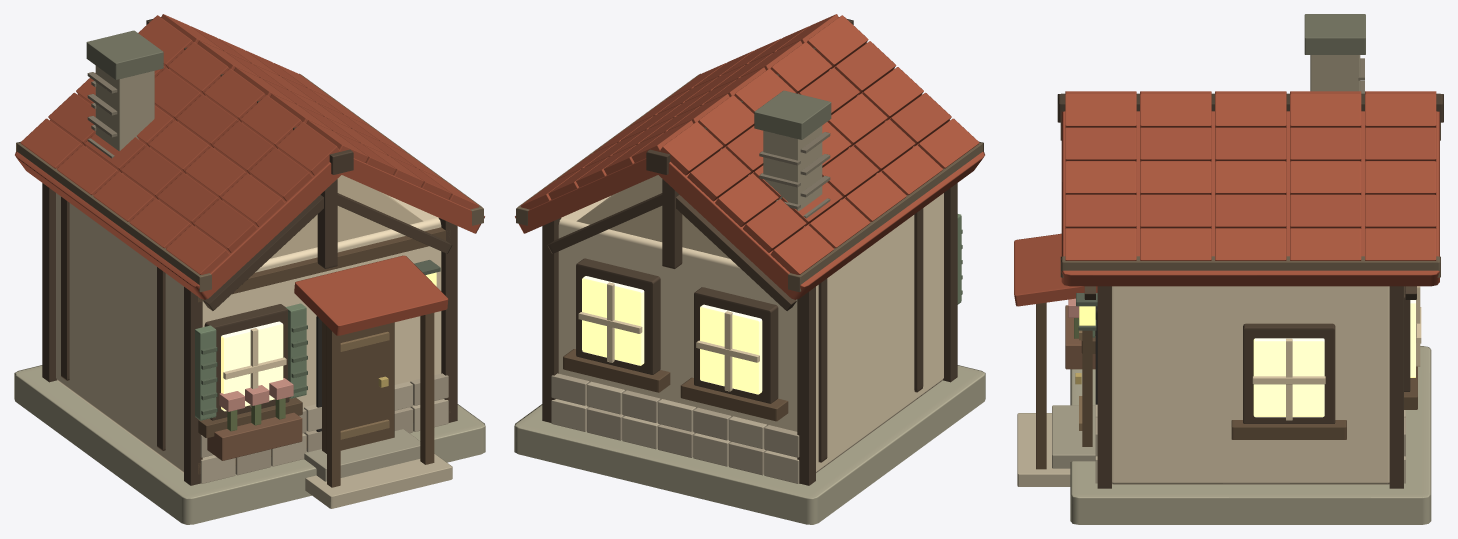
File: house-0.glb
3 views of the same model, side by side, from view 1: azimuth 30°, elevation 25°; view 2: azimuth 150°, elevation 25°; view 3: azimuth 270°, elevation 25° (orthographic). The views are drawn at different scales.
Parts seen in each view (by area): view 1: house-0-0, door-hinge; view 2: house-0-0; view 3: house-0-0, door-hinge.
Part boxes in pixels (x1=…): house-0-0: x1=14, y1=14, x2=485, y2=524; door-hinge: x1=322, y1=321, x2=394, y2=453; house-0-0: x1=514, y1=14, x2=985, y2=524; house-0-0: x1=1014, y1=14, x2=1443, y2=524; door-hinge: x1=1075, y1=306, x2=1092, y2=446.
Bounding box in the file's own units: 1.88 × 2.19 × 2.24.
